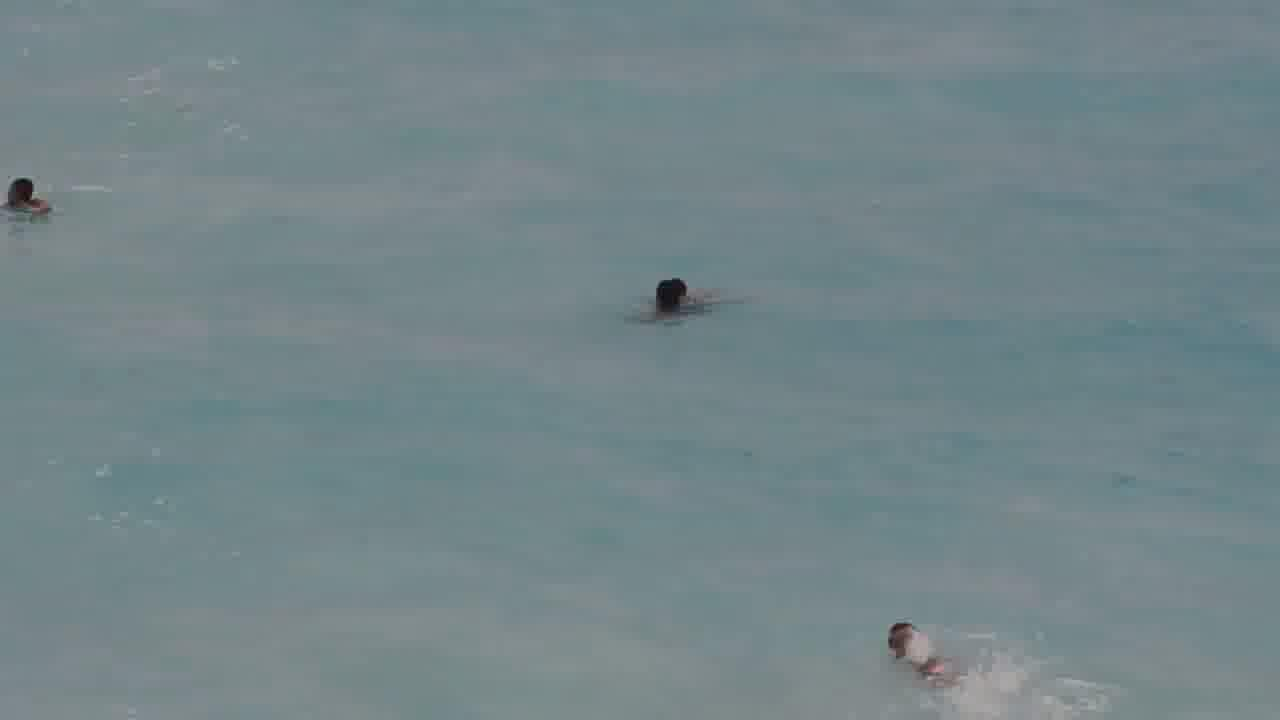human: (880, 615, 955, 691), (644, 264, 706, 345), (5, 159, 55, 240)
